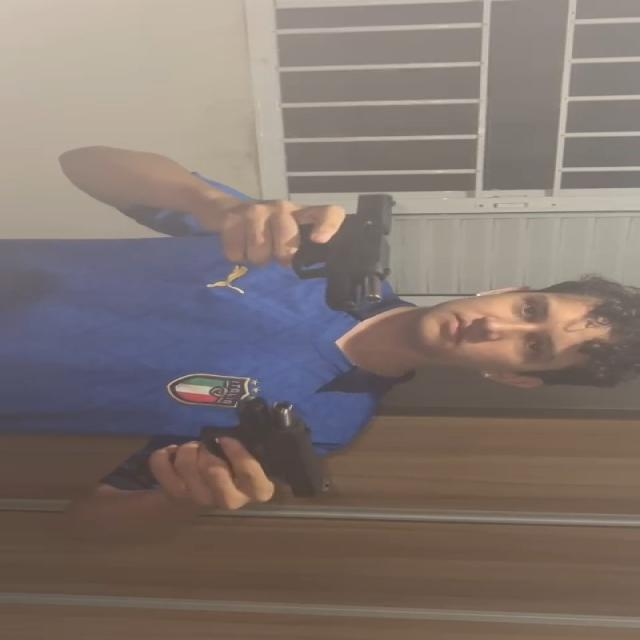gun: (290, 192, 395, 310), (227, 396, 336, 498)
